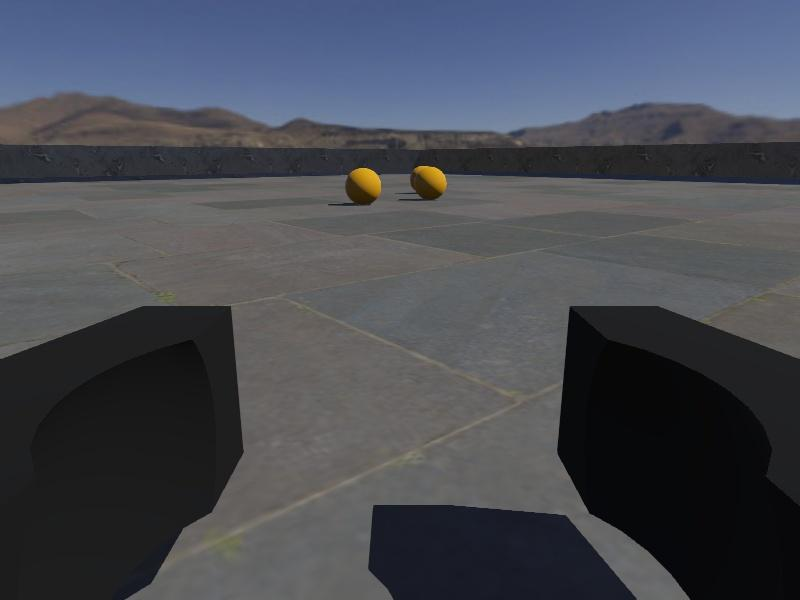orange ball: (344, 167, 383, 206), (414, 166, 448, 201)
